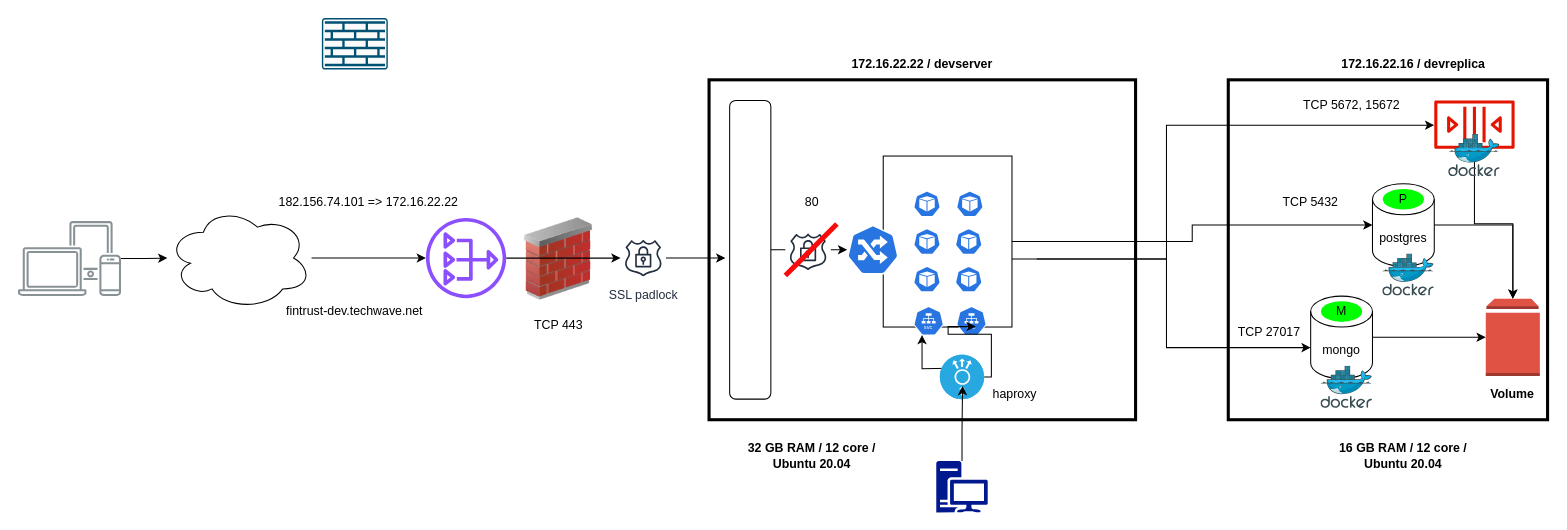
This 1567x530 diagram has some shape labels left out. The shapes that lost their labels are listed below. From the top down, each one's centre as x and y in pixels, then its label:
At pixel 69 258: "devices".
At pixel 750 249: "Caddy".
At pixel 807 251: "No SSL".
